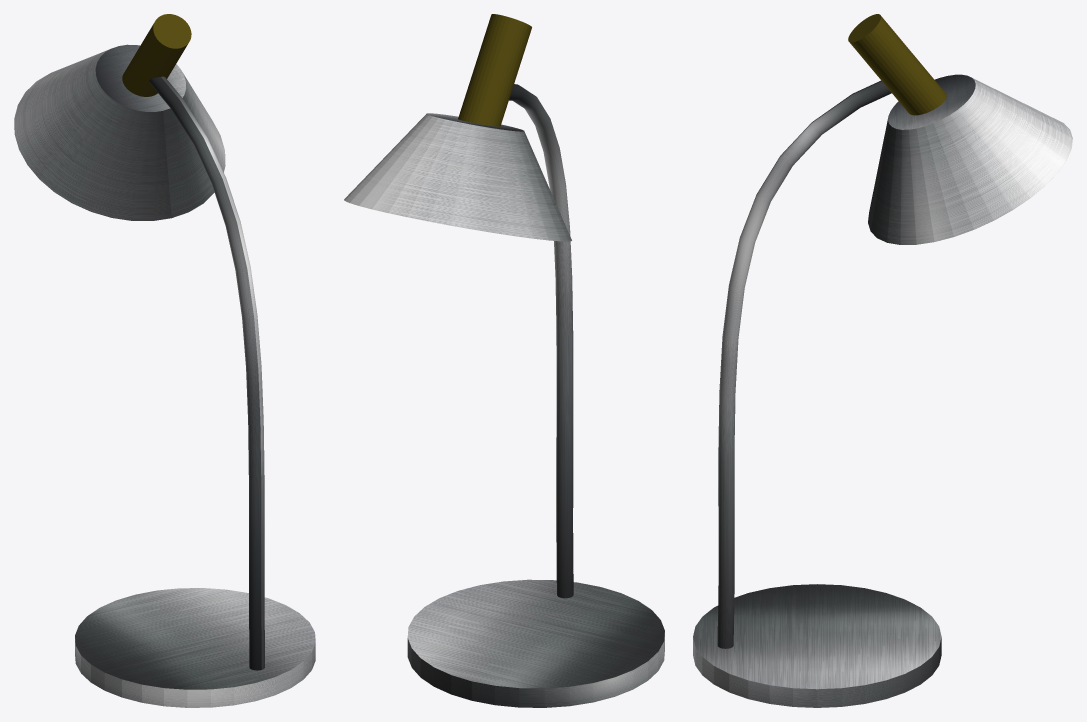
The model's file is luminaria.obj.
3 renders of one model, left to right at view 1: azimuth 30°, elevation 25°; view 2: azimuth 150°, elevation 25°; view 3: azimuth 270°, elevation 25°, orthographic. The views are drawn at different scales.
Parts seen in each view (by area): view 1: Cilindro.002_Cilindro.008, Cilindro_Cilindro.006, Bézier_-_Curva_Bézier_-_Curva.002, Cilindro.001_Cilindro.007; view 2: Cilindro_Cilindro.006, Cilindro.002_Cilindro.008, Bézier_-_Curva_Bézier_-_Curva.002, Cilindro.001_Cilindro.007; view 3: Cilindro_Cilindro.006, Cilindro.002_Cilindro.008, Bézier_-_Curva_Bézier_-_Curva.002, Cilindro.001_Cilindro.007.
Part boxes in pixels (x1=…): Cilindro.002_Cilindro.008: x1=14, y1=44, x2=225, y2=220; Cilindro_Cilindro.006: x1=75, y1=588, x2=315, y2=707; Bézier_-_Curva_Bézier_-_Curva.002: x1=149, y1=76, x2=264, y2=670; Cilindro.001_Cilindro.007: x1=122, y1=14, x2=191, y2=96; Cilindro_Cilindro.006: x1=407, y1=579, x2=664, y2=707; Cilindro.002_Cilindro.008: x1=344, y1=113, x2=571, y2=241; Bézier_-_Curva_Bézier_-_Curva.002: x1=509, y1=84, x2=573, y2=598; Cilindro.001_Cilindro.007: x1=458, y1=14, x2=531, y2=126; Cilindro_Cilindro.006: x1=693, y1=584, x2=941, y2=707; Cilindro.002_Cilindro.008: x1=868, y1=74, x2=1072, y2=244; Bézier_-_Curva_Bézier_-_Curva.002: x1=717, y1=80, x2=891, y2=648; Cilindro.001_Cilindro.007: x1=848, y1=14, x2=946, y2=115.
Bounding box in the file's own units: 0.12 × 0.34 × 0.1834.
